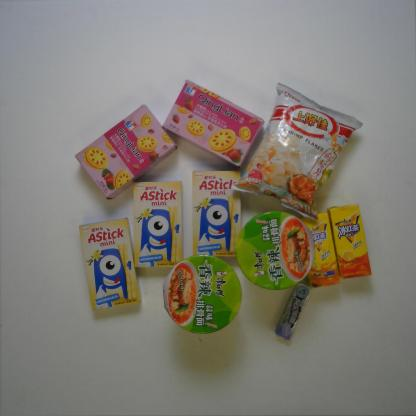Candy: (273, 283, 310, 343)
Dessert: (72, 101, 178, 205), (162, 79, 262, 167), (79, 213, 141, 315), (132, 176, 187, 271), (192, 170, 242, 258)
Drink: (294, 211, 339, 290), (328, 202, 373, 279)
Instant Noodles: (233, 209, 316, 292), (163, 256, 241, 334)
Puffed Food: (234, 83, 364, 220)
